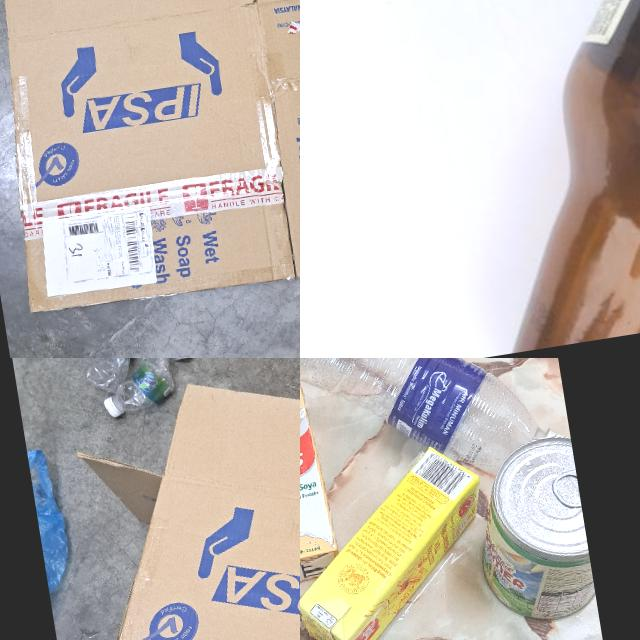aba de lata: (556, 467, 582, 514)
caixinha: (300, 442, 509, 640), (300, 381, 341, 588)
garrafa de vidro: (434, 0, 640, 354)
garrafa plástica: (300, 358, 561, 508), (105, 358, 177, 414), (76, 358, 139, 399)
lata: (466, 435, 598, 630)
papelão: (0, 0, 300, 323), (20, 358, 300, 640)
sacola plástica: (27, 447, 84, 621)
tampa plástica: (102, 396, 121, 419)
